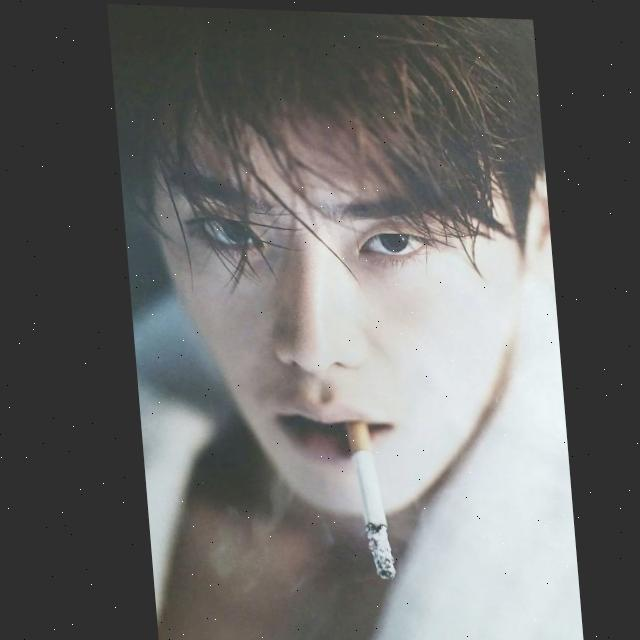cigarette: (338, 419, 389, 578)
